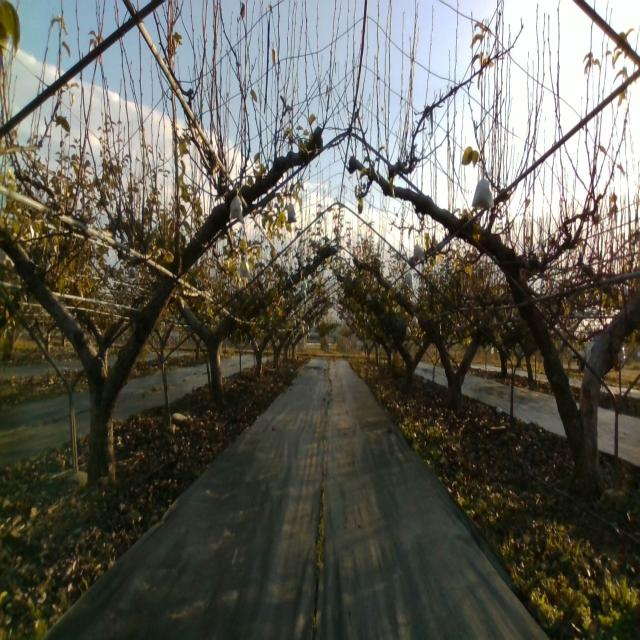pearbags: (470, 176, 495, 208), (227, 189, 244, 224), (412, 239, 426, 261), (286, 199, 297, 222)
